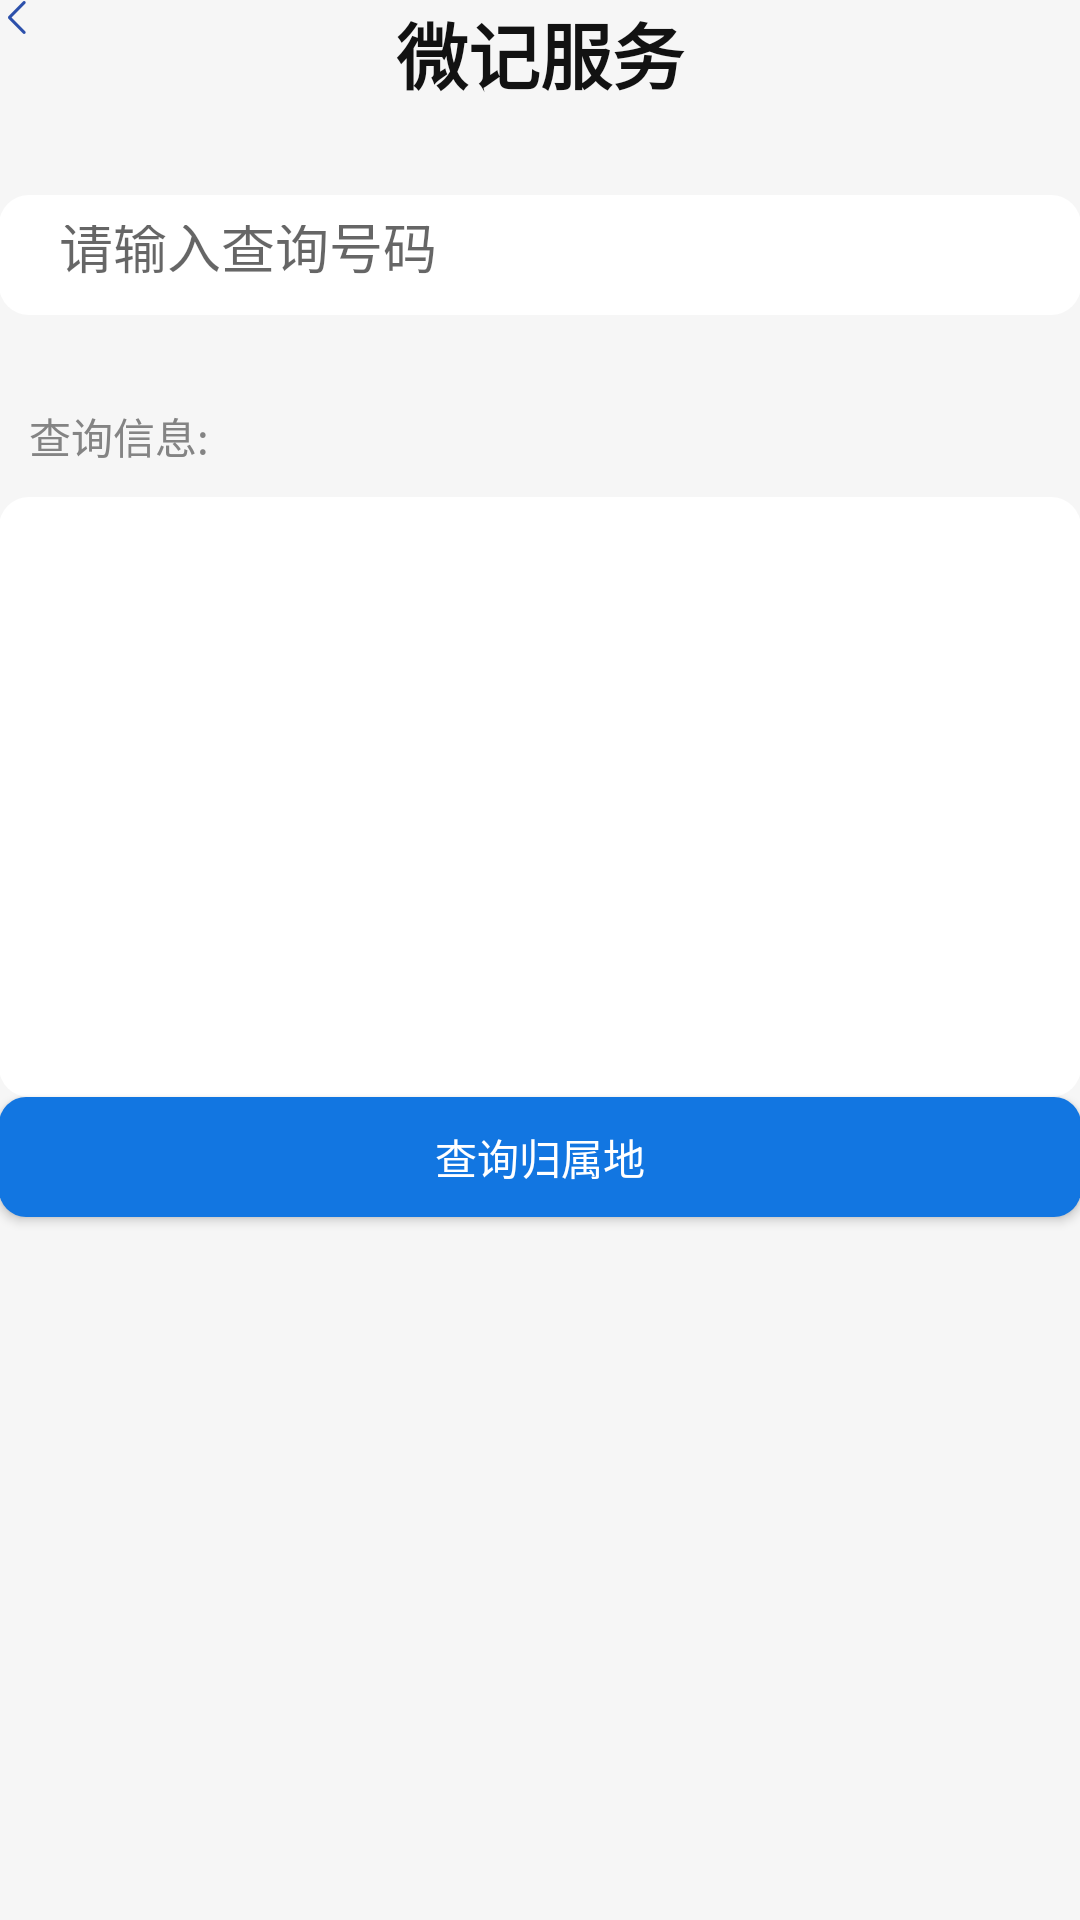

Named icons in this screenshot (1080w x 1920h) and their centers, (x=x, y=y):
top bar left back: (x=17, y=17)
